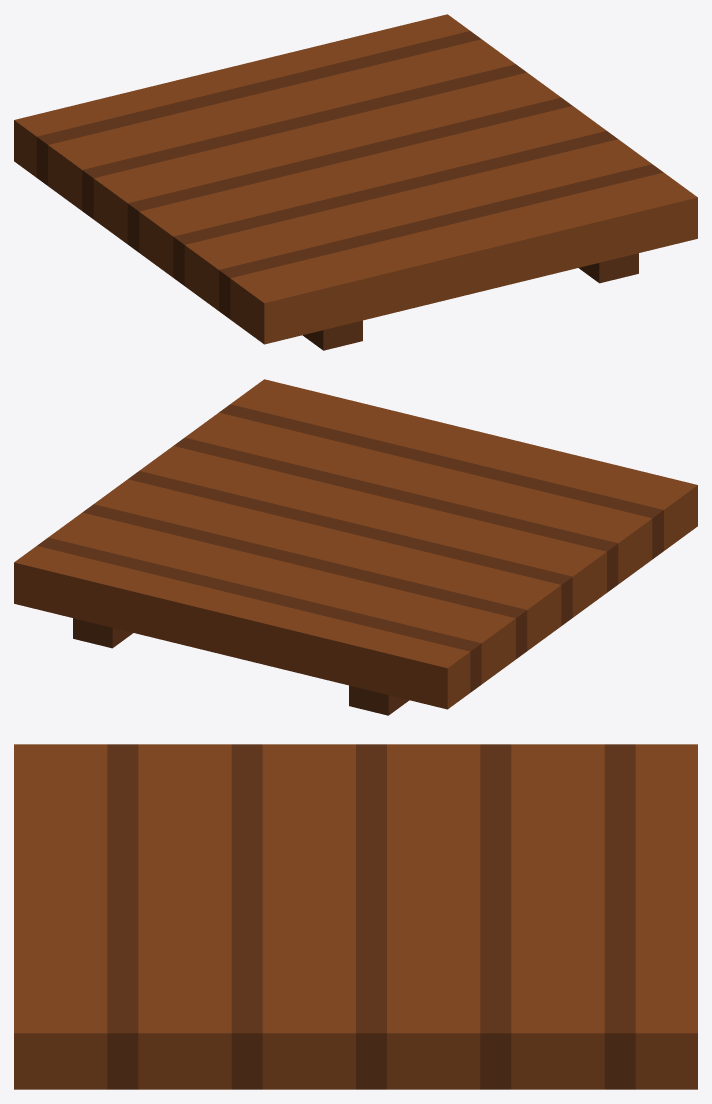
Rendered from heap_FOR_SALE.glb.
The picture shows the model from 3 angles, top to bottom: view 1: azimuth 30°, elevation 25°; view 2: azimuth 150°, elevation 25°; view 3: azimuth 270°, elevation 25°; orthographic projection. The views are drawn at different scales.
Parts seen in each view (by area): view 1: item_HEAP_FOR_SALE; view 2: item_HEAP_FOR_SALE; view 3: item_HEAP_FOR_SALE.
Boxes of the visible parts, left/top/right/bottom form: item_HEAP_FOR_SALE: left=14, top=14, right=697, bottom=350; item_HEAP_FOR_SALE: left=14, top=379, right=697, bottom=715; item_HEAP_FOR_SALE: left=14, top=744, right=697, bottom=1089.
Bounding box in the file's own units: 0.5 × 0.0682 × 0.5.
Materials: 1 (1 with a texture image).
